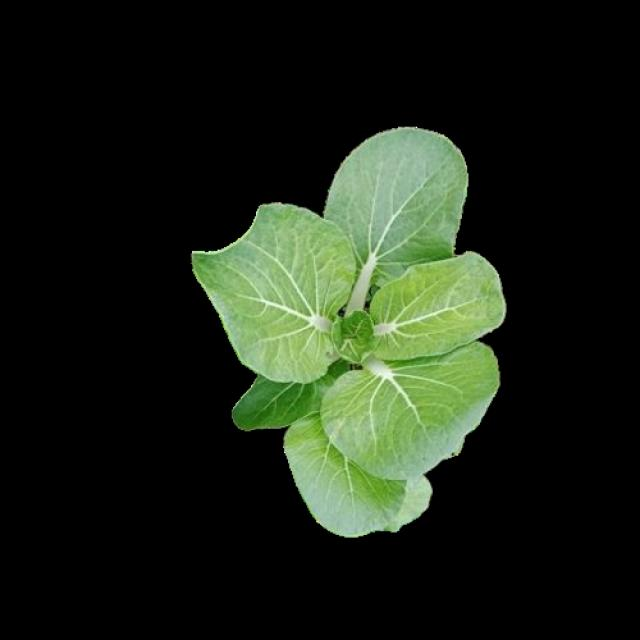healthy: (195, 124, 503, 533)
not-mature: (192, 122, 500, 530)
